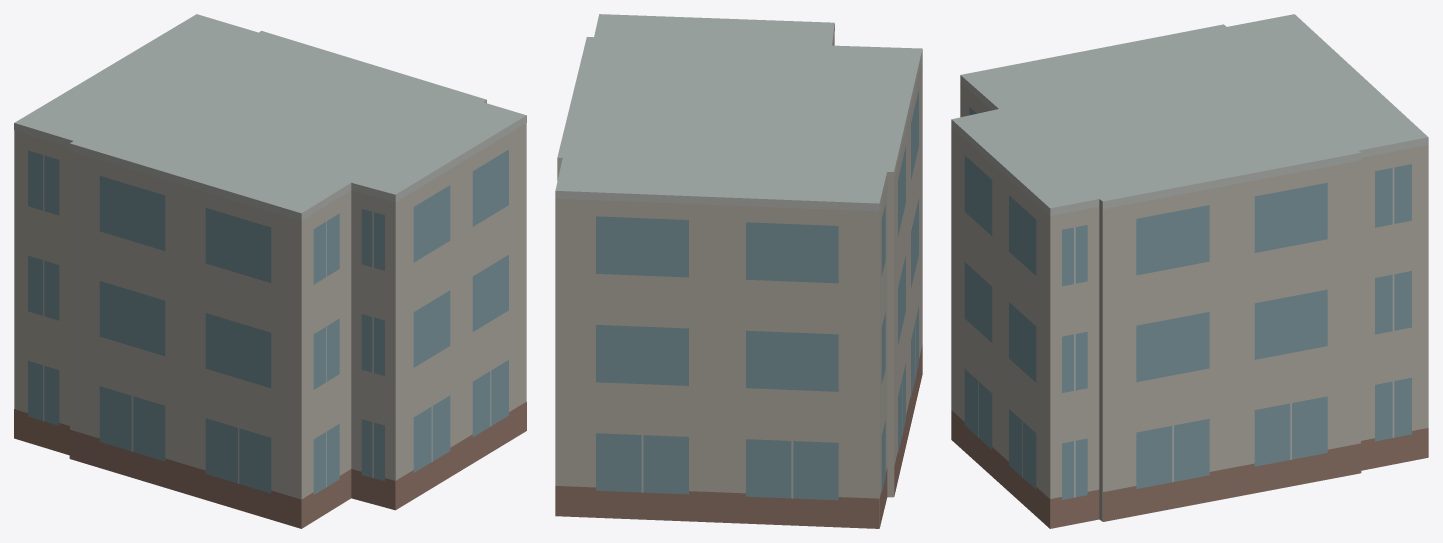
Rendered from survey-upis-32743143.glb.
3 views of the same model, side by side, from view 1: azimuth 30°, elevation 25°; view 2: azimuth 150°, elevation 25°; view 3: azimuth 270°, elevation 25° (orthographic). The views are drawn at different scales.
Visible parts, largest first — view 1: survey-upis-32743143.tmp; view 2: survey-upis-32743143.tmp; view 3: survey-upis-32743143.tmp.
Part boxes in pixels (x1,y1,x2,y2): survey-upis-32743143.tmp: (14,14,526,528); survey-upis-32743143.tmp: (555,14,922,528); survey-upis-32743143.tmp: (951,14,1428,528).
Bounding box in the file's own units: 13.28 × 10.2 × 13.77.
